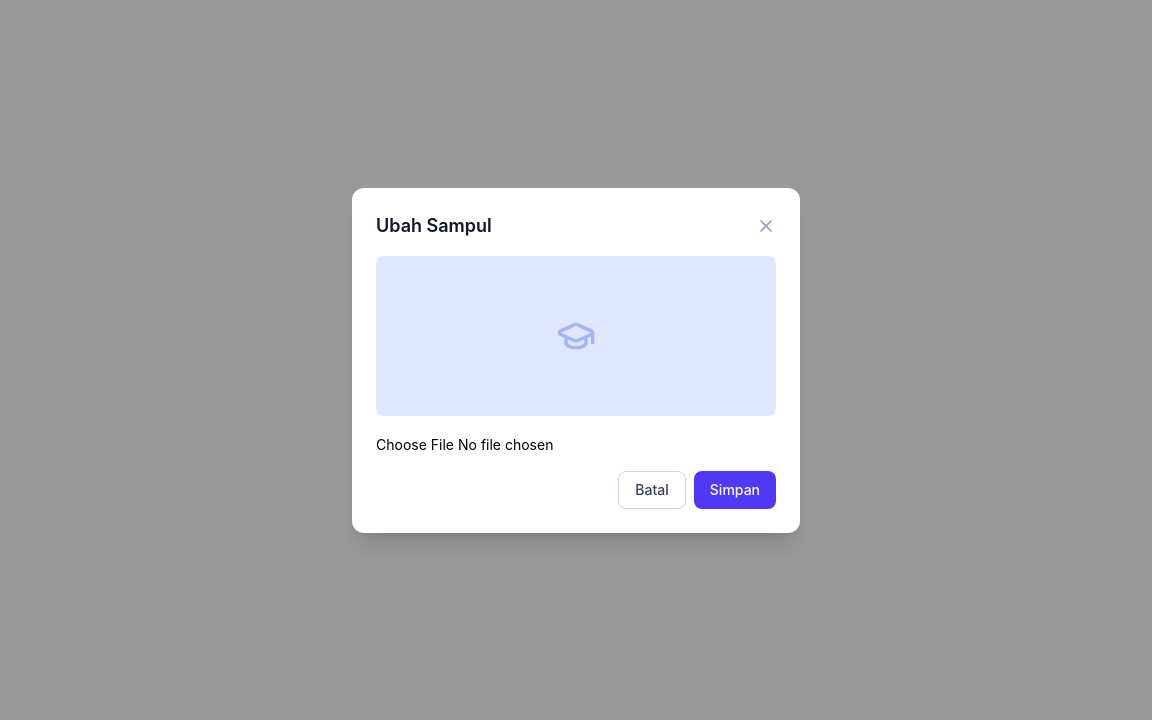
Scenario: ChangeCoverModal › meminta gambar jika belum memilih berkas
Click the button "Simpan" at (735, 490), box [694,470,776,508]
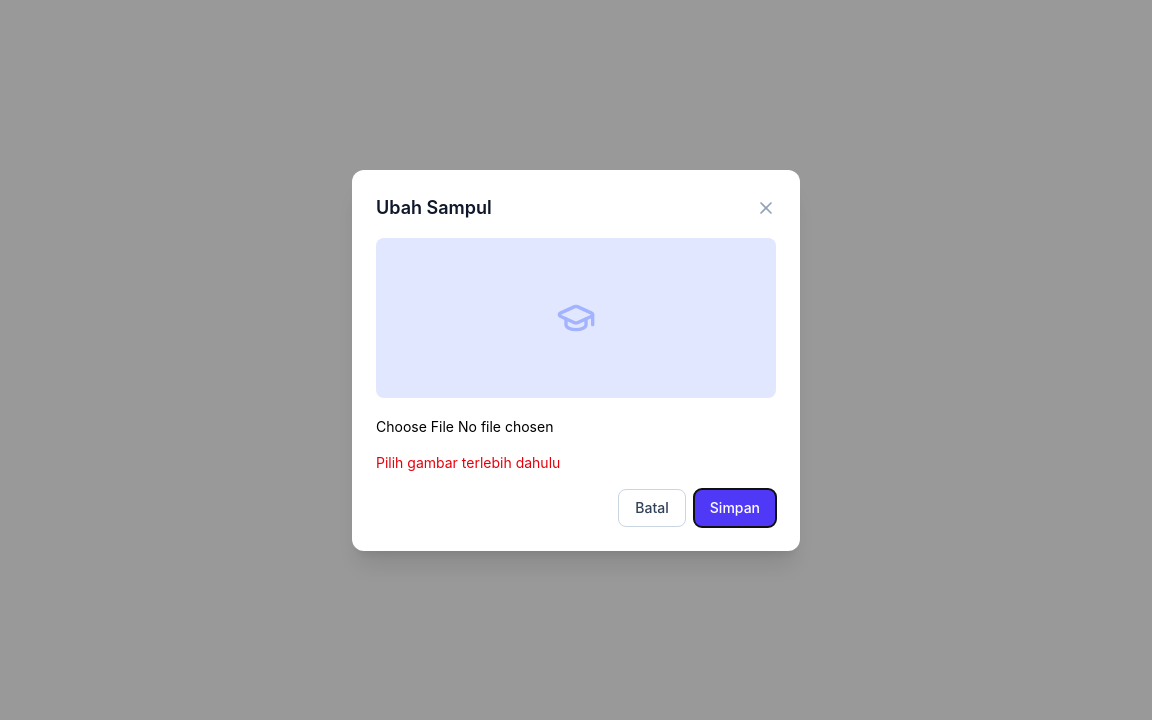
Now the text "Pilih gambar terlebih dahulu" is shown, box [376,454,560,470]
